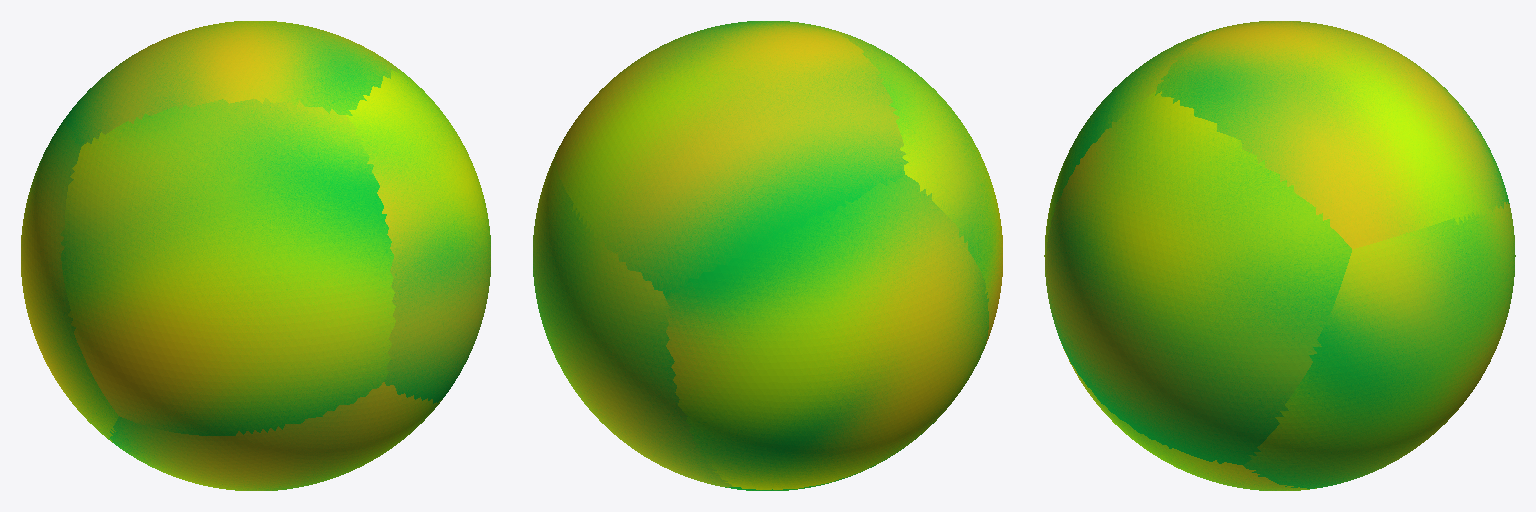
The picture shows the model from 3 angles: view 1: azimuth 30°, elevation 25°; view 2: azimuth 150°, elevation 25°; view 3: azimuth 270°, elevation 25°; orthographic projection.
Visible parts, largest first — view 1: Icosphere_Icosphere.001; view 2: Icosphere_Icosphere.001; view 3: Icosphere_Icosphere.001.
Boxes of the visible parts, x1=… form: Icosphere_Icosphere.001: x1=21, y1=21, x2=490, y2=490; Icosphere_Icosphere.001: x1=533, y1=21, x2=1002, y2=490; Icosphere_Icosphere.001: x1=1044, y1=21, x2=1515, y2=490.
Bounding box in the file's own units: 2 × 2 × 2.
Materials: 1 (1 with a texture image).